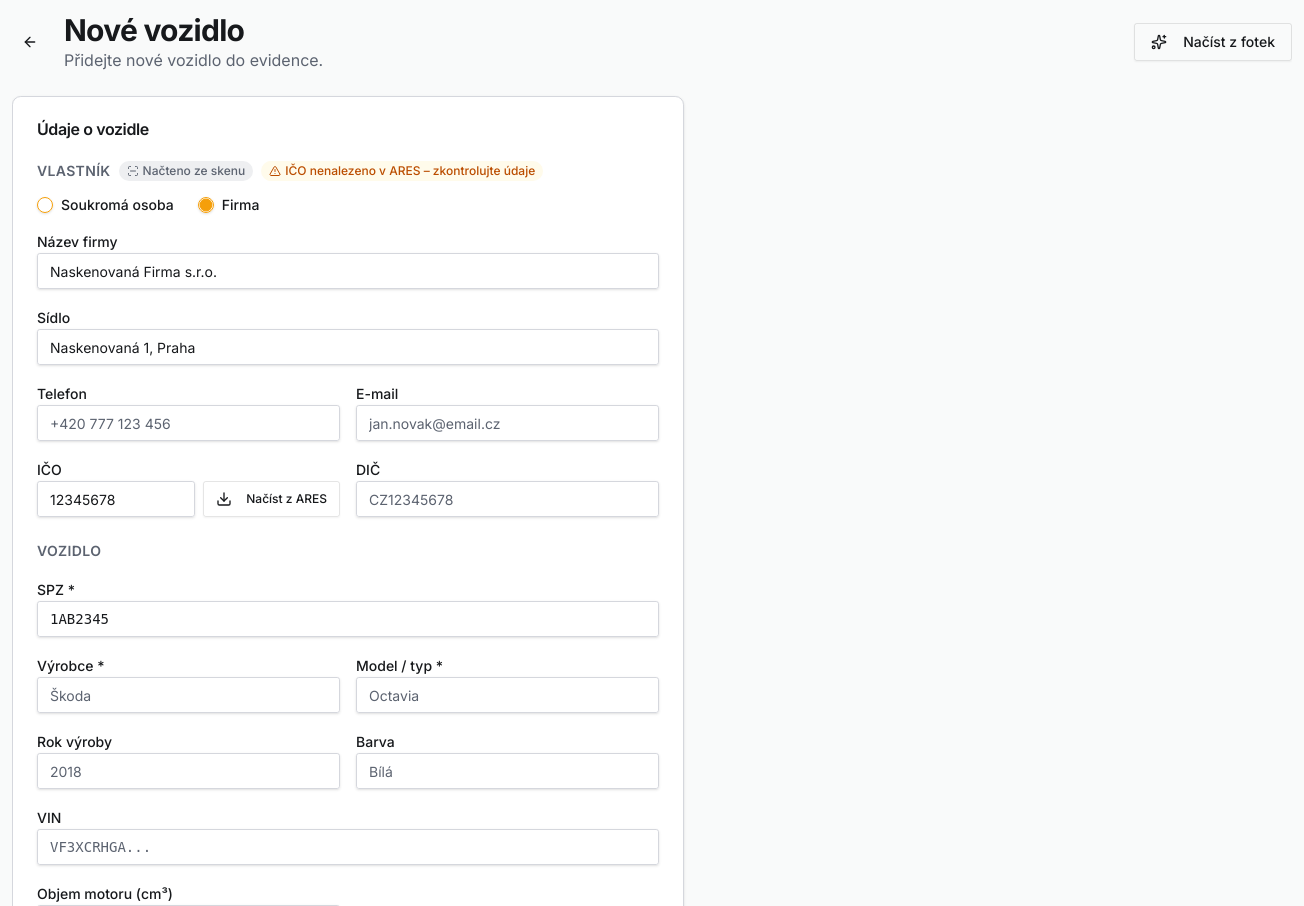
Test case: New vehicle ARES verification warning after a scan › clears the warning after the user switches owner type to private
This screenshot has width=1304, height=906.
Expected: the text "IČO nenalezeno v ARES – zkontrolujte údaje" is shown, left=261, top=161, right=543, bottom=181
Click the radio button named "Soukromá osoba" next to "Soukromá osoba". click: click(45, 205)
box: left=37, top=197, right=53, bottom=213
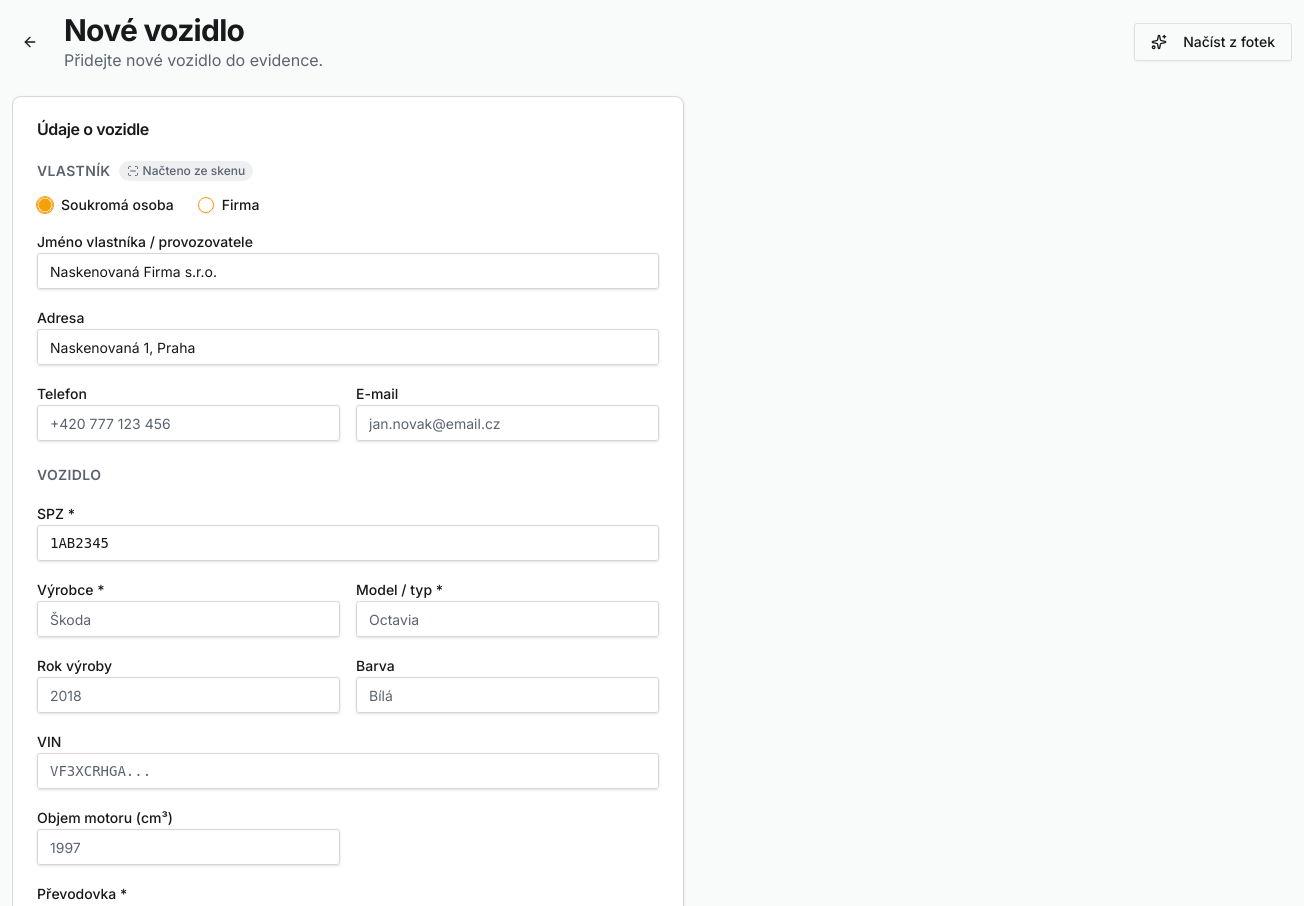
Now the text "IČO nenalezeno v ARES – zkontrolujte údaje" is gone
